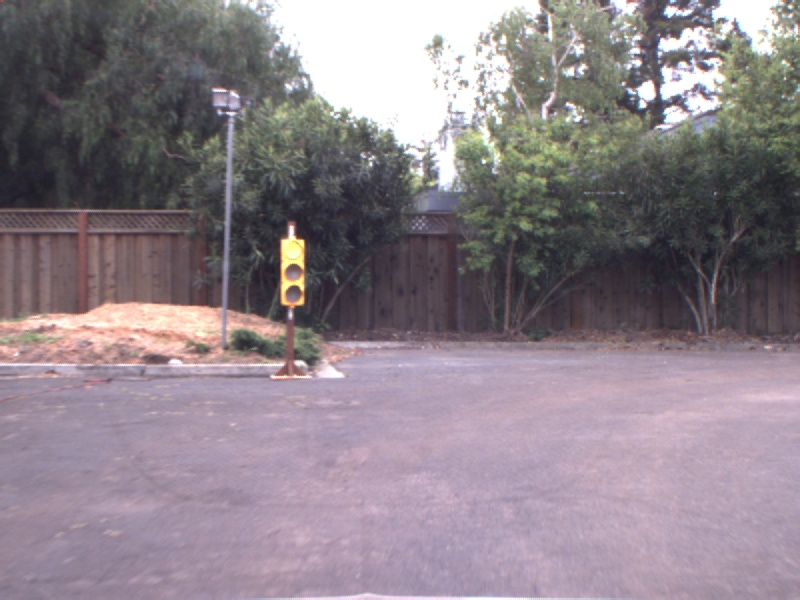red: (274, 233, 310, 308)
